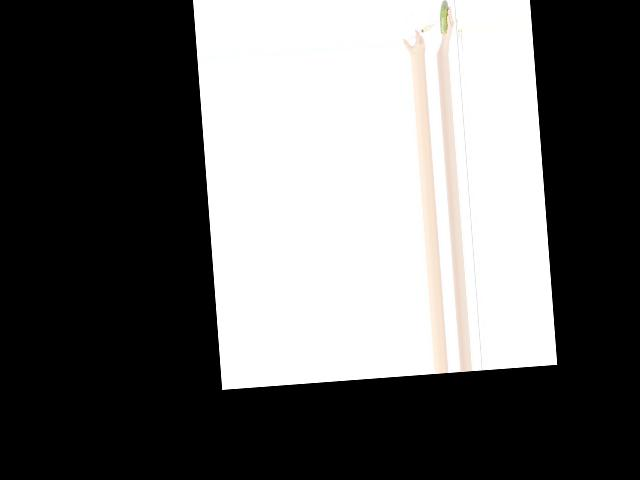cucumber: (438, 0, 450, 34)
